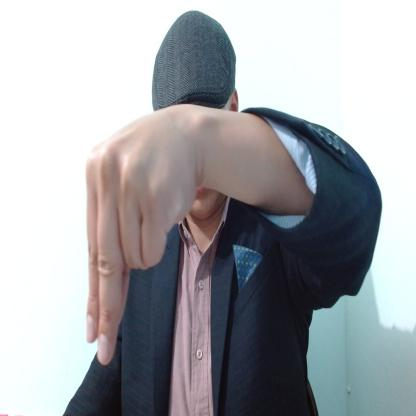N: (86, 100, 199, 368)
